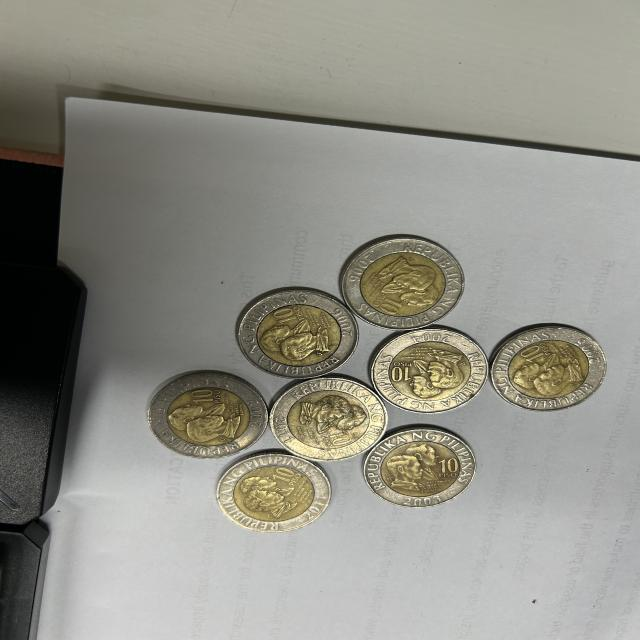10_Old_Front: (271, 308, 299, 325), (380, 298, 404, 314), (520, 345, 544, 361), (191, 386, 215, 402), (390, 367, 414, 382), (438, 458, 462, 473), (272, 467, 294, 483), (329, 430, 351, 445)
